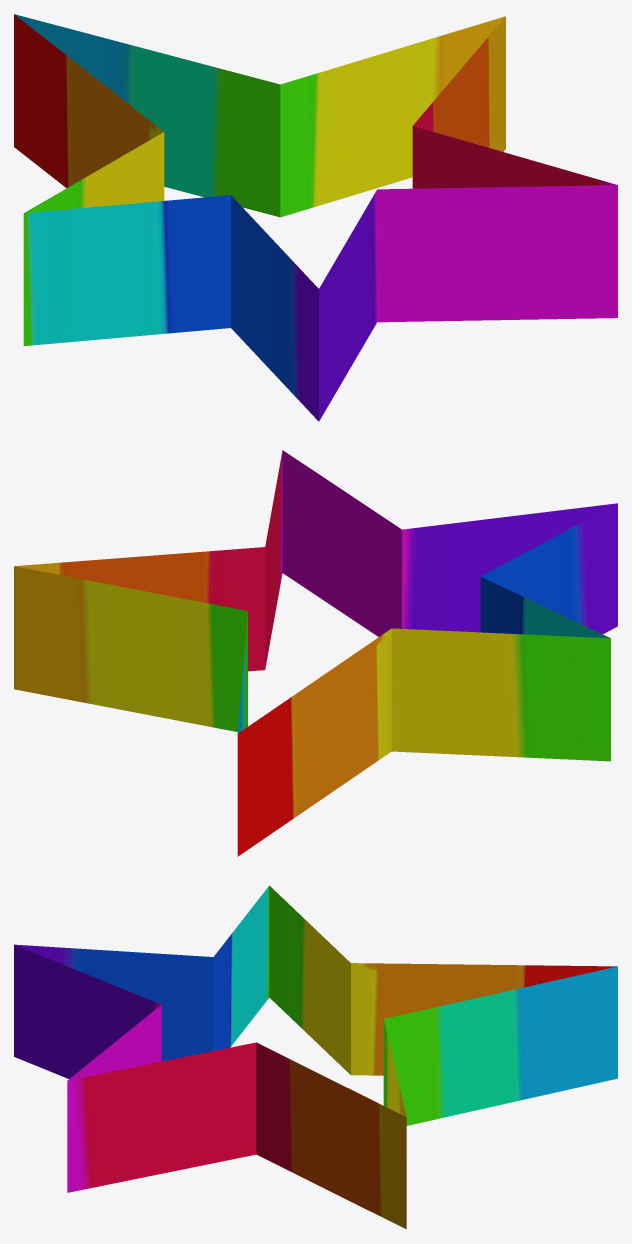
File: Star.FBX
3 renders of one model, top to bottom at view 1: azimuth 30°, elevation 25°; view 2: azimuth 150°, elevation 25°; view 3: azimuth 270°, elevation 25°, orthographic. The views are drawn at different scales.
Visible parts, largest first — view 1: Line001; view 2: Line001; view 3: Line001.
Boxes of the visible parts, x1,y1,x2,y2 form: Line001: (14,14,617,421); Line001: (14,450,617,856); Line001: (14,885,617,1229).
Size of the model in its own units: 5.73 by 1.29 by 6.3.
